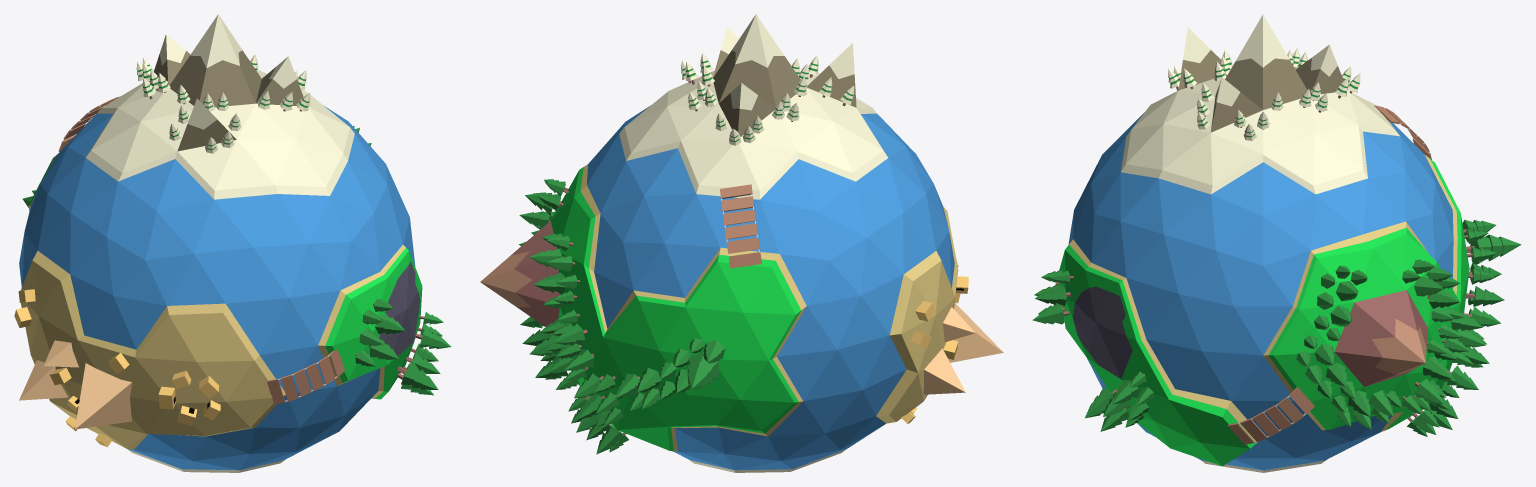
The picture shows the model from 3 angles, left to right: view 1: azimuth 30°, elevation 25°; view 2: azimuth 150°, elevation 25°; view 3: azimuth 270°, elevation 25°; orthographic projection.
Visible parts, largest first — view 1: Planet, Cone.003, Cube.002_Bridge_0, Cone.001, Cone.002, Cylinder.007, Cube_Bridge_0; view 2: Planet, Cube_Bridge_0, Cone.001, Cone.003, Cone.236, Cone.002; view 3: Planet, Cube.001_Bridge_0, Cone.236.
Boxes of the visible parts, box(x1,y1,x2,y2) form: Planet: box(19, 14, 422, 472); Cone.003: box(75, 363, 132, 429); Cube.002_Bridge_0: box(267, 349, 344, 404); Cone.001: box(19, 360, 68, 400); Cone.002: box(43, 340, 78, 367); Cylinder.007: box(397, 362, 438, 389); Cube_Bridge_0: box(58, 96, 120, 151); Planet: box(480, 14, 958, 472); Cube_Bridge_0: box(720, 184, 761, 268); Cone.001: box(923, 348, 965, 394); Cone.003: box(948, 302, 1003, 362); Cone.236: box(687, 351, 718, 389); Cone.002: box(943, 307, 975, 342); Planet: box(1058, 14, 1469, 472); Cube.001_Bridge_0: box(1228, 387, 1314, 444); Cone.236: box(1466, 234, 1521, 264).
Size of the model in its own units: 235 by 245 by 246.
